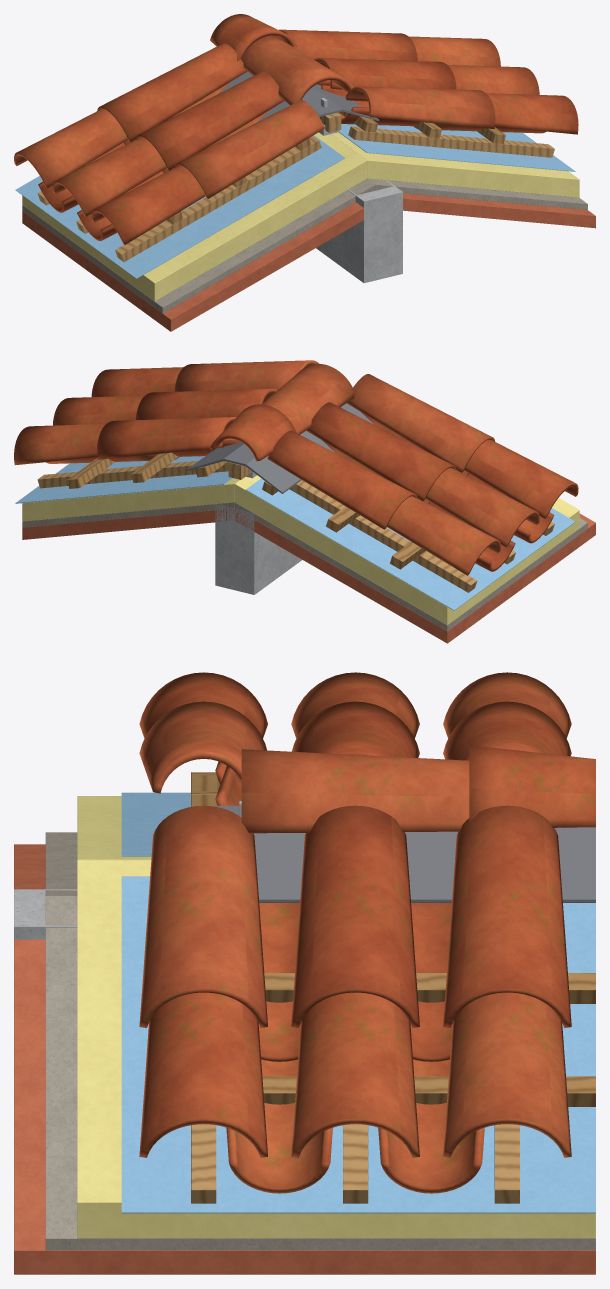
Rendered from detalle6_cumbrera_teja_ventilada.glb.
The picture shows the model from 3 angles, top to bottom: view 1: azimuth 30°, elevation 25°; view 2: azimuth 150°, elevation 25°; view 3: azimuth 270°, elevation 25°; orthographic projection. The views are drawn at different scales.
Parts seen in each view (by area): view 1: D6_Teja_Cobija, D6_Tablero, D6_AT_XPS, D6_Lamina_Transpirable, D6_Contrarastreles, D6_Caballetes, D6_Soporte, D6_Teja_Canal, D6_Remate_Ventilado, D6_Rastreles; view 2: D6_Teja_Cobija, D6_Tablero, D6_AT_XPS, D6_Lamina_Transpirable, D6_Caballetes, D6_Soporte, D6_Contrarastreles, D6_Rastreles, D6_Teja_Canal, D6_Remate_Ventilado; view 3: D6_Teja_Cobija, D6_Tablero, D6_Lamina_Transpirable, D6_AT_XPS, D6_Caballetes, D6_Teja_Canal, D6_Remate_Ventilado, D6_Rastreles, D6_Contrarastreles, D6_Soporte.
Boxes of the visible parts, left/top/right/bottom form: D6_Teja_Cobija: left=14, top=29, right=578, bottom=244; D6_Tablero: left=22, top=178, right=595, bottom=331; D6_AT_XPS: left=22, top=132, right=579, bottom=301; D6_Lamina_Transpirable: left=15, top=124, right=575, bottom=278; D6_Contrarastreles: left=37, top=126, right=554, bottom=261; D6_Caballetes: left=210, top=14, right=353, bottom=105; D6_Soporte: left=316, top=180, right=402, bottom=283; D6_Teja_Canal: left=38, top=80, right=545, bottom=241; D6_Remate_Ventilado: left=218, top=71, right=379, bottom=121; D6_Rastreles: left=166, top=111, right=505, bottom=224; D6_Teja_Cobija: left=14, top=360, right=578, bottom=575; D6_Tablero: left=22, top=502, right=595, bottom=643; D6_AT_XPS: left=22, top=475, right=579, bottom=624; D6_Lamina_Transpirable: left=15, top=456, right=575, bottom=610; D6_Caballetes: left=210, top=363, right=354, bottom=461; D6_Soporte: left=215, top=504, right=302, bottom=594; D6_Contrarastreles: left=37, top=460, right=554, bottom=592; D6_Rastreles: left=67, top=452, right=425, bottom=569; D6_Teja_Canal: left=46, top=412, right=554, bottom=571; D6_Remate_Ventilado: left=187, top=403, right=373, bottom=493; D6_Teja_Cobija: left=139, top=672, right=571, bottom=1157; D6_Tablero: left=14, top=832, right=595, bottom=1274; D6_Lamina_Transpirable: left=121, top=792, right=595, bottom=1213; D6_AT_XPS: left=77, top=796, right=595, bottom=1238; D6_Caballetes: left=241, top=745, right=595, bottom=833; D6_Teja_Canal: left=215, top=761, right=484, bottom=1193; D6_Remate_Ventilado: left=216, top=805, right=595, bottom=902; D6_Rastreles: left=191, top=772, right=595, bottom=1106; D6_Contrarastreles: left=191, top=1124, right=519, bottom=1203; D6_Soporte: left=14, top=889, right=77, bottom=939.
Bounding box in the file's own units: 1.67 × 0.557 × 0.92.
Materials: 14 (13 with a texture image).
